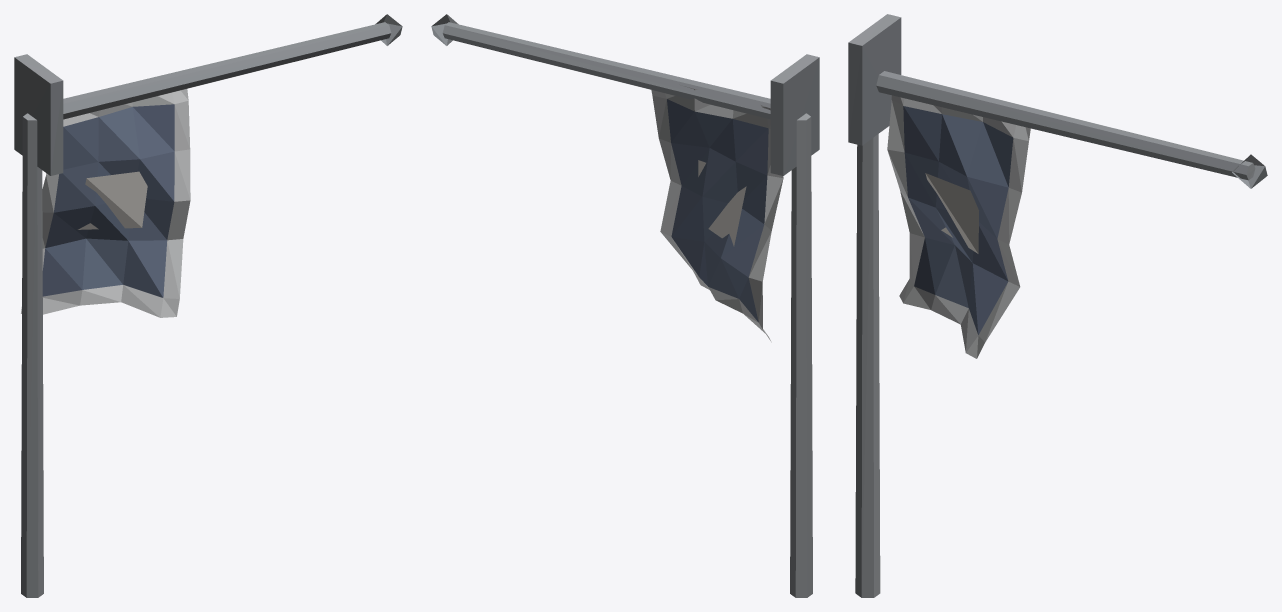
The model's file is flag.notched.dianqi__pole.horizontal.big__armHang.glb.
3 renders of one model, left to right at view 1: azimuth 30°, elevation 25°; view 2: azimuth 150°, elevation 25°; view 3: azimuth 330°, elevation 25°, orthographic. The views are drawn at different scales.
Visible parts, largest first — view 1: flag.notched.dianqi; view 2: flag.notched.dianqi; view 3: flag.notched.dianqi.
Boxes of the visible parts, x1,y1,x2,y2 form: flag.notched.dianqi: (14, 14, 402, 597); flag.notched.dianqi: (431, 14, 819, 597); flag.notched.dianqi: (848, 14, 1267, 597).
Bounding box in the file's own units: 2.66 × 3.51 × 0.5532.
